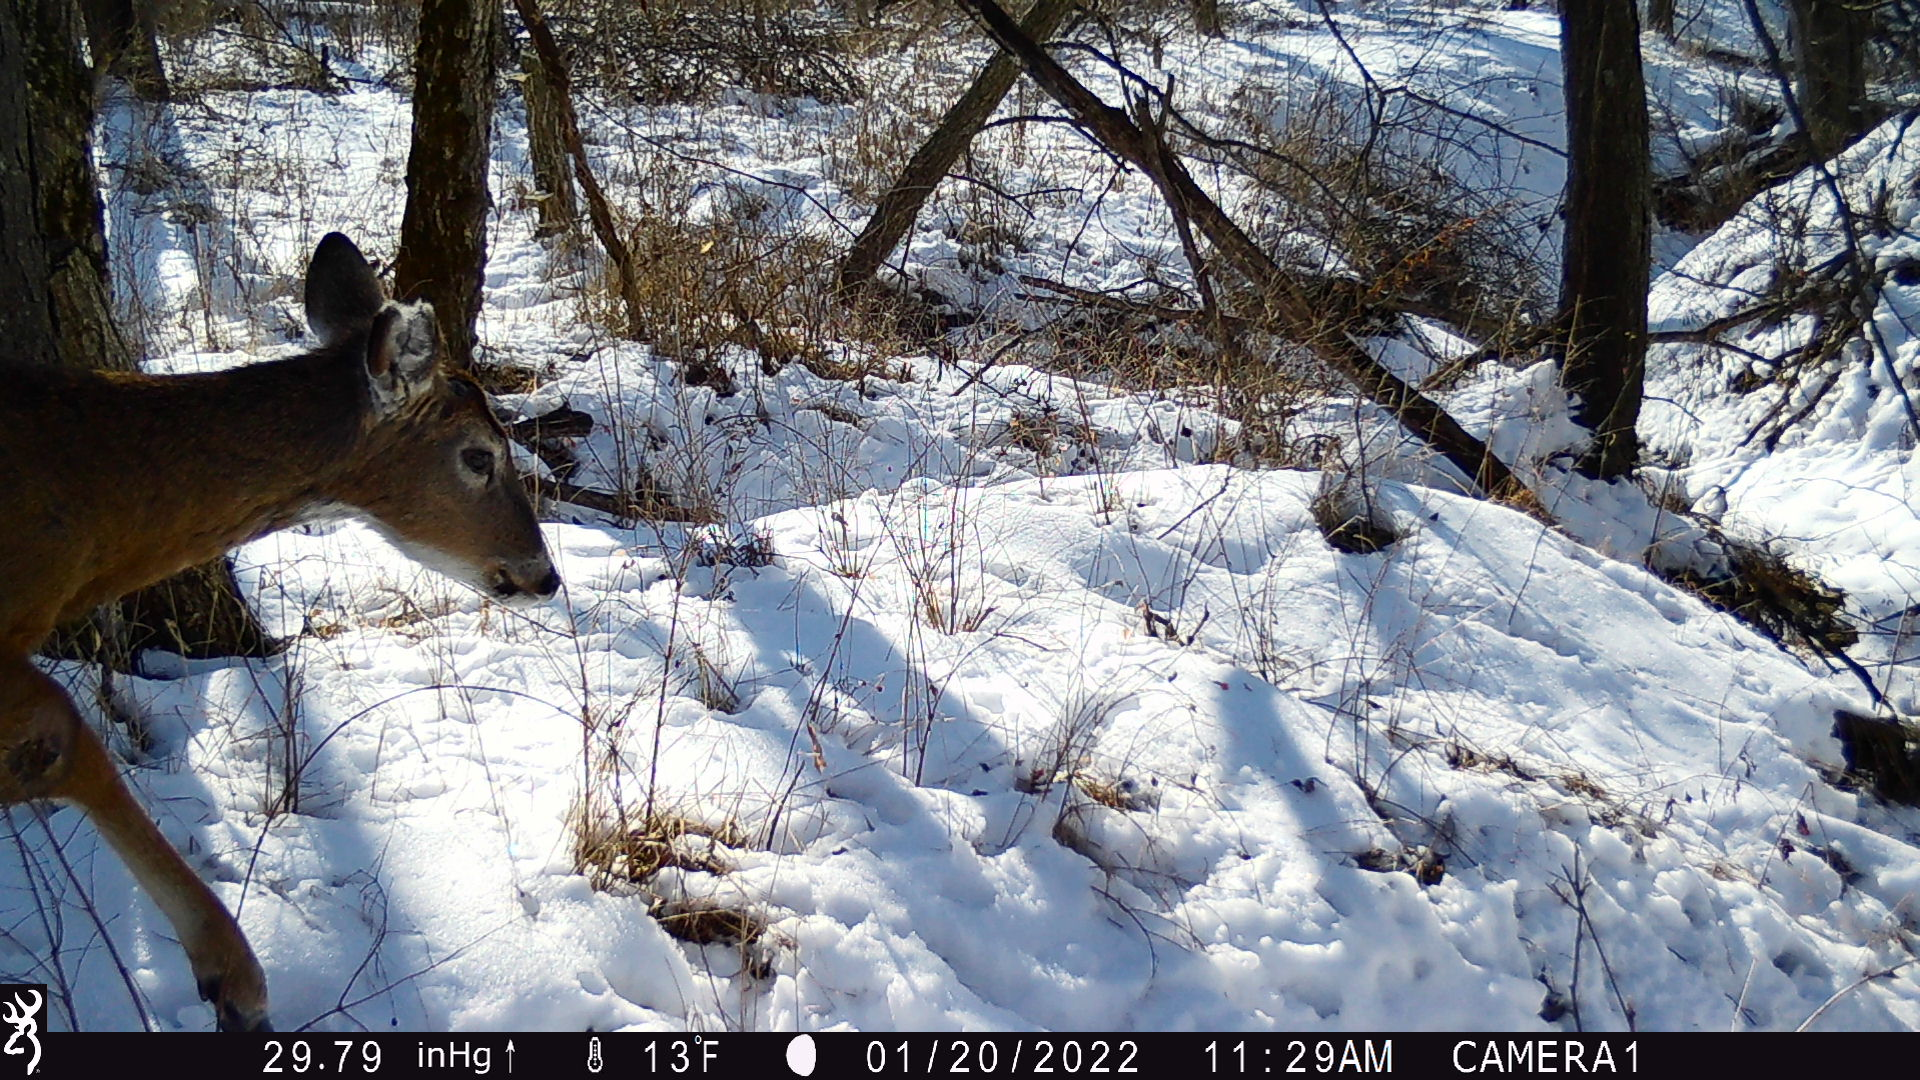DeerDoe: (3, 229, 559, 1030)
